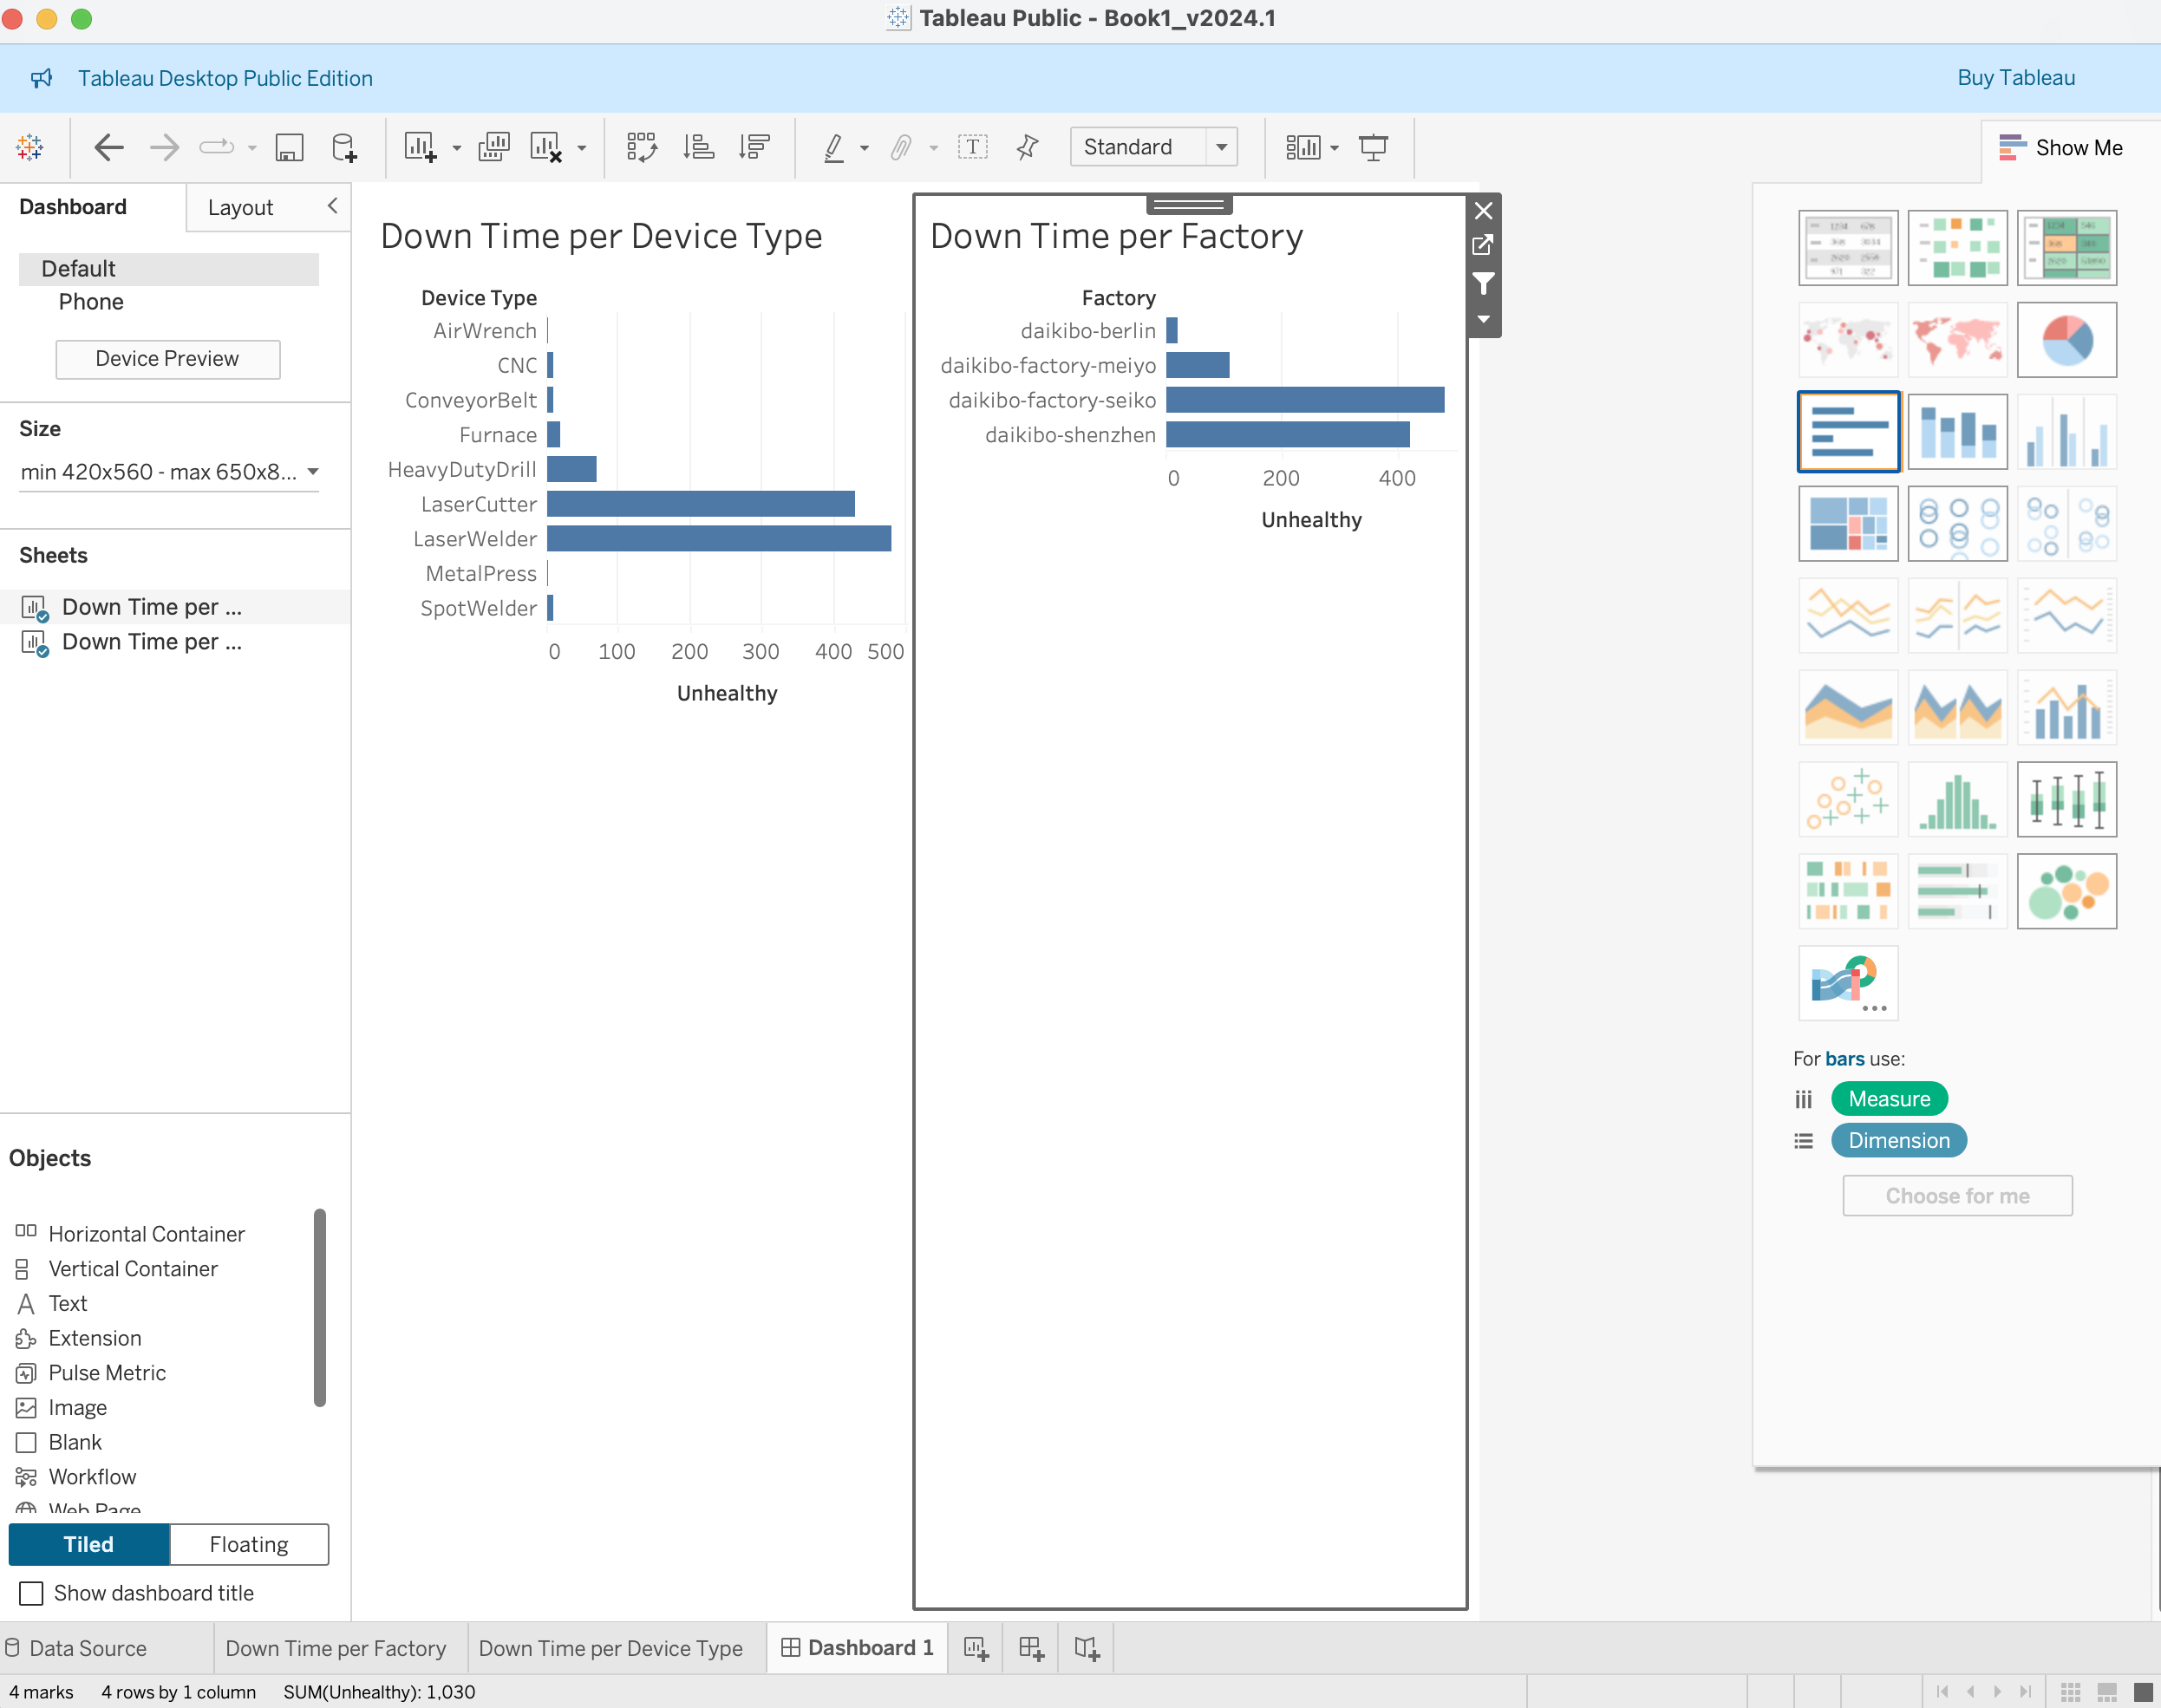

The page's visual inventory and layout, read from the dashboard file:
{"tool":"tableau","page":{"name":"Dashboard 1","canvas":[650,860],"ordinal":0},"visuals":[{"type":"worksheet","title":"Down Time per Device Type","mark":"Automatic","rows":["deviceType"],"cols":["Calculation_2849697180061699"],"box":[8,8.3,317,843.4]},{"type":"worksheet","title":"Down Time per Factory","mark":"Automatic","rows":["factory"],"cols":["Calculation_2849697180061699"],"box":[325,8.3,317,843.4]}]}

Visuals, with their boxes on the page's 650x860 design canvas (x1, y1, x2, y2). These are canvas units, not pixel positions in the 2161x1708 screenshot, which may show the page scaled, cropped or inside an application window:
"Down Time per Device Type" worksheet: [left=8, top=8, right=325, bottom=852]
"Down Time per Factory" worksheet: [left=325, top=8, right=642, bottom=852]
